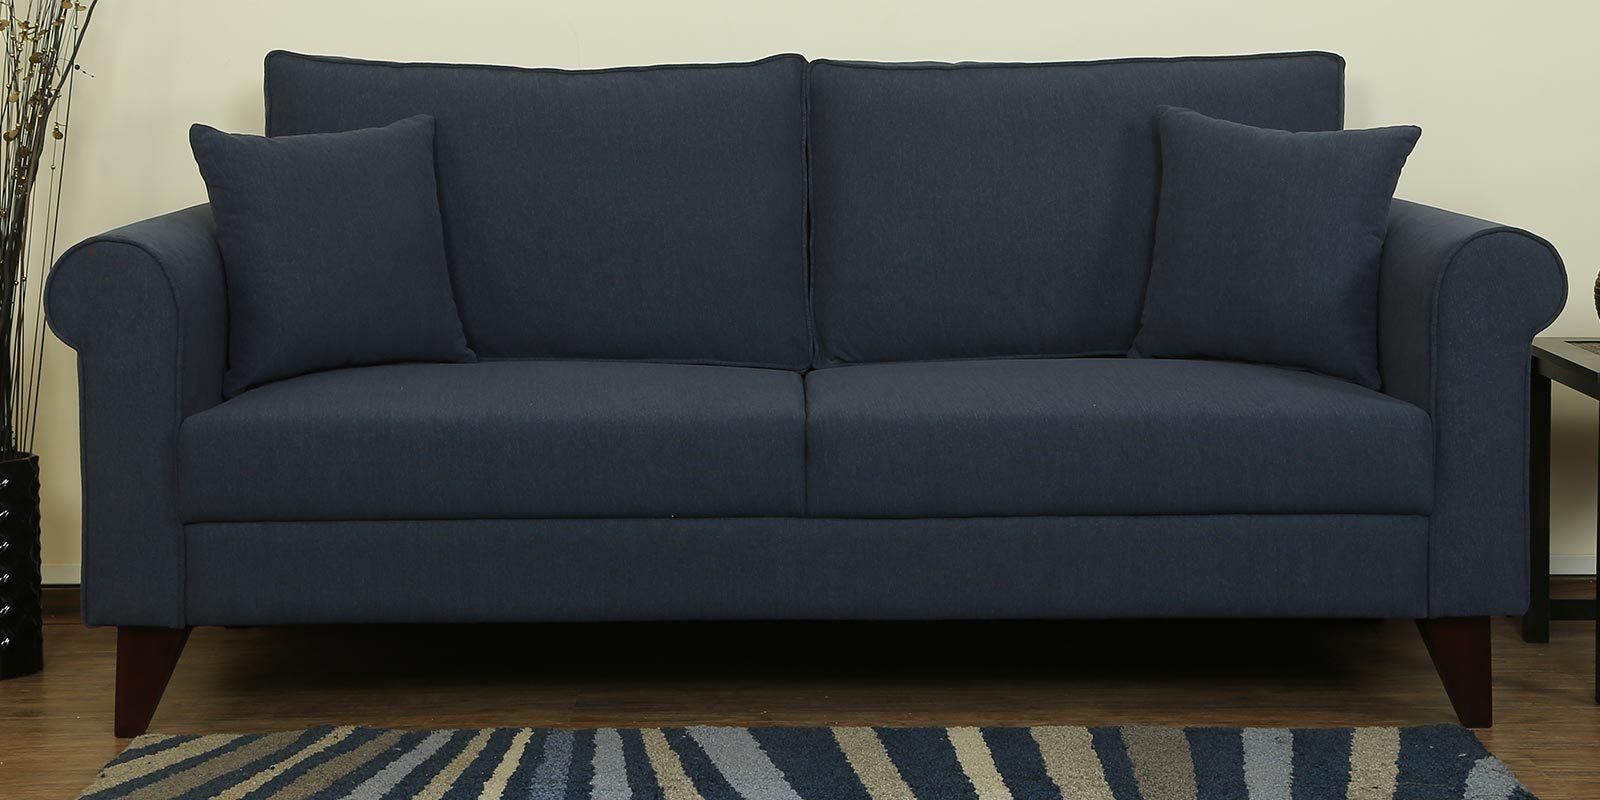Fuego Three Seater Sofa in Navy Blue Colour by CasaCraft: (42, 35, 1578, 764)
